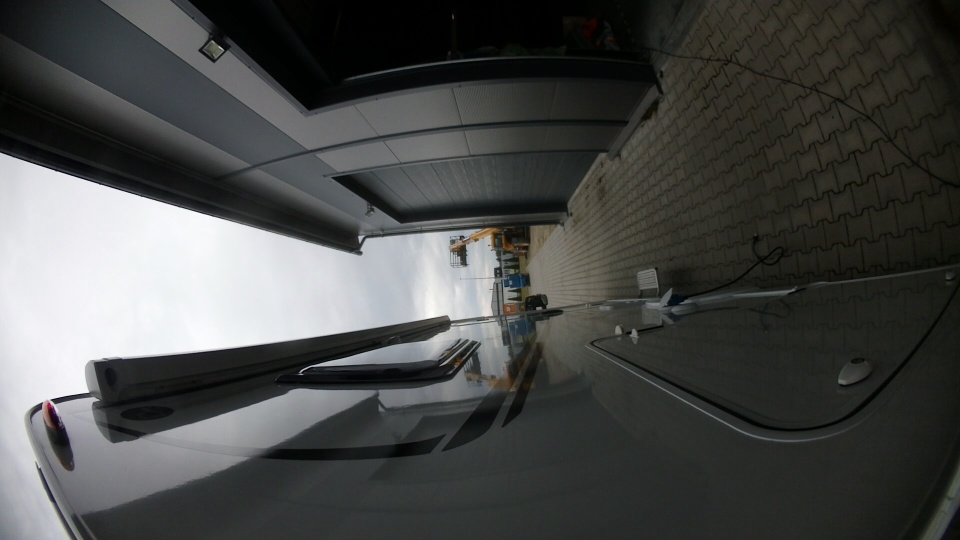step_back: (630, 263, 665, 300)
